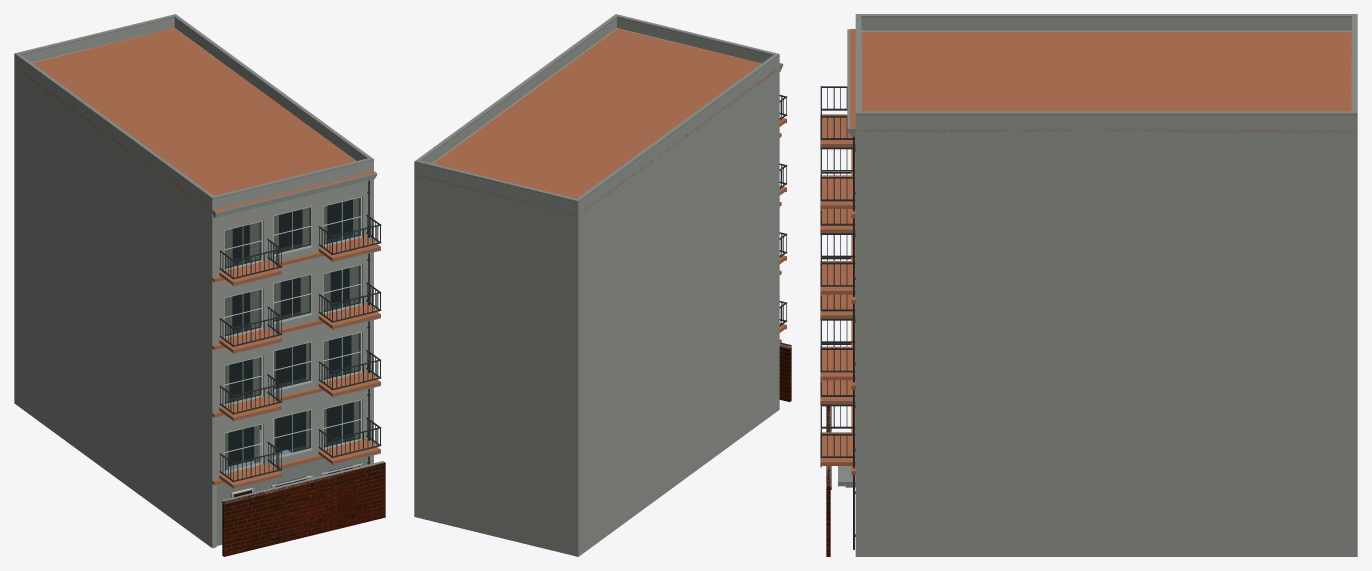
Rendered from building.glb.
3 renders of one model, left to right at view 1: azimuth 30°, elevation 25°; view 2: azimuth 150°, elevation 25°; view 3: azimuth 270°, elevation 25°, orthographic. The views are drawn at different scales.
Visible parts, largest first — view 1: main:0/edge3/z0/main:0/edge3/z0/wall_0_0, roof/main:0/roof_slab#0001, main:0/edge0/z0/main:0/edge0/z0/wall_1_0, site/fence/0/wall#0001, roof/main:0/parapet#0001, roof/main:0/parapet_cap#0002, main:0/edge0/z0/main:0/edge0/z0/coating_0_0_0, main:0/edge1/z0/main:0/edge1/z0/wall_0_0, main:0/edge0/z0/opening_u0.57_v6.58/glazing#0001, main:0/edge0/z0/opening_u0.57_v9.78/glazing#0001, main:0/edge0/z0/opening_u0.57_v12.98/glazing#0001, main:0/edge0/z0/opening_u0.57_v3.38/glazing#0001 (+32 smaller); view 2: main:0/edge3/z0/main:0/edge3/z0/wall_0_0, main:0/edge2/z0/main:0/edge2/z0/wall_0_0, roof/main:0/roof_slab#0001, roof/main:0/parapet#0001, roof/main:0/parapet_cap#0002, main:0/edge1/z0/main:0/edge1/z0/wall_0_0, roof/main:0/parapet_cap#0001, main:0/edge0/z0/main:0/edge0/z0/wall_1_0, site/fence/0/wall#0001; view 3: main:0/edge1/z0/main:0/edge1/z0/wall_0_0, roof/main:0/roof_slab#0001, roof/main:0/parapet#0001, roof/main:0/parapet_cap#0002, roof/main:0/parapet_cap#0001, main:0/edge0/z0/main:0/edge0/z0/wall_1_0, main:0/edge2/z0/main:0/edge2/z0/wall_0_0, main:0/edge0/z0/proj_balcony_04/balcony_slab#0001, main:0/edge0/z0/proj_balcony_06/balcony_slab#0001, main:0/edge0/z0/proj_balcony_02/balcony_slab#0001, main:0/edge0/z0/proj_balcony_08/balcony_slab#0001, main:0/edge3/z0/main:0/edge3/z0/wall_0_0 (+5 smaller).
Part boxes in pixels (bbox=[...]): main:0/edge3/z0/main:0/edge3/z0/wall_0_0: bbox=[14, 66, 216, 548]; roof/main:0/roof_slab#0001: bbox=[16, 28, 355, 211]; main:0/edge0/z0/main:0/edge0/z0/wall_1_0: bbox=[210, 180, 373, 480]; site/fence/0/wall#0001: bbox=[222, 462, 385, 556]; roof/main:0/parapet#0001: bbox=[14, 18, 373, 210]; roof/main:0/parapet_cap#0002: bbox=[15, 14, 373, 198]; main:0/edge0/z0/main:0/edge0/z0/coating_0_0_0: bbox=[216, 457, 368, 545]; main:0/edge1/z0/main:0/edge1/z0/wall_0_0: bbox=[174, 28, 373, 466]; main:0/edge0/z0/opening_u0.57_v6.58/glazing#0001: bbox=[224, 357, 261, 403]; main:0/edge0/z0/opening_u0.57_v9.78/glazing#0001: bbox=[224, 289, 261, 335]; main:0/edge0/z0/opening_u0.57_v12.98/glazing#0001: bbox=[224, 222, 261, 268]; main:0/edge0/z0/opening_u0.57_v3.38/glazing#0001: bbox=[224, 425, 261, 471]; main:0/edge3/z0/main:0/edge3/z0/wall_0_0: bbox=[574, 68, 779, 556]; main:0/edge2/z0/main:0/edge2/z0/wall_0_0: bbox=[414, 174, 580, 556]; roof/main:0/roof_slab#0001: bbox=[415, 28, 776, 215]; roof/main:0/parapet#0001: bbox=[414, 18, 779, 213]; roof/main:0/parapet_cap#0002: bbox=[414, 14, 778, 201]; main:0/edge1/z0/main:0/edge1/z0/wall_0_0: bbox=[414, 28, 617, 516]; roof/main:0/parapet_cap#0001: bbox=[414, 16, 779, 202]; main:0/edge0/z0/main:0/edge0/z0/wall_1_0: bbox=[616, 28, 779, 342]; site/fence/0/wall#0001: bbox=[779, 343, 791, 401]; main:0/edge1/z0/main:0/edge1/z0/wall_0_0: bbox=[855, 129, 1357, 556]; roof/main:0/roof_slab#0001: bbox=[856, 31, 1357, 132]; roof/main:0/parapet#0001: bbox=[855, 18, 1357, 128]; roof/main:0/parapet_cap#0002: bbox=[856, 14, 1357, 113]; roof/main:0/parapet_cap#0001: bbox=[855, 14, 1357, 115]; main:0/edge0/z0/main:0/edge0/z0/wall_1_0: bbox=[855, 31, 861, 471]; main:0/edge2/z0/main:0/edge2/z0/wall_0_0: bbox=[1351, 32, 1357, 556]; main:0/edge0/z0/proj_balcony_04/balcony_slab#0001: bbox=[820, 346, 855, 380]; main:0/edge0/z0/proj_balcony_06/balcony_slab#0001: bbox=[820, 261, 855, 294]; main:0/edge0/z0/proj_balcony_02/balcony_slab#0001: bbox=[820, 432, 855, 465]; main:0/edge0/z0/proj_balcony_08/balcony_slab#0001: bbox=[820, 175, 855, 208]; main:0/edge3/z0/main:0/edge3/z0/wall_0_0: bbox=[861, 30, 1351, 31].
Bounding box in the file's own units: 8 × 16.69 × 18.2.
10 materials, 2 textured.
